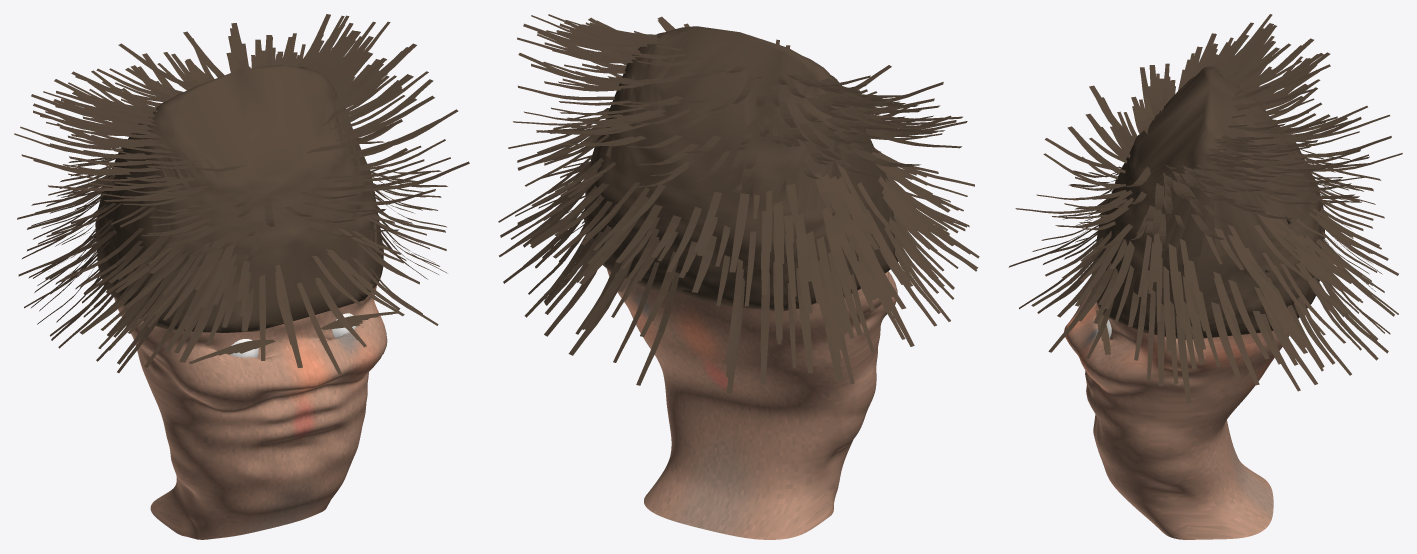
The model's file is TLS_gwendolyn_head_v3.glb.
3 views of the same model, side by side, from view 1: azimuth 30°, elevation 25°; view 2: azimuth 150°, elevation 25°; view 3: azimuth 270°, elevation 25° (orthographic). The views are drawn at different scales.
Parts seen in each view (by area): view 1: TLS_gwendolyn_HairCap, TLS_gwendolyn_Head, card.012, card.078, card.107, card.066, card.172; view 2: TLS_gwendolyn_Head, TLS_gwendolyn_HairCap, card.147, card.008, card.219, card.063, card.269, card.168, card.170, card.091, card.229, card.272 (+1 smaller); view 3: TLS_gwendolyn_Head, TLS_gwendolyn_HairCap, card.059, card.117, card.018, card.175, card.049, card.136, card.225, card.293, card.068.
Boxes of the visible parts, x1=… form: TLS_gwendolyn_HairCap: x1=95, y1=64, x2=383, y2=332; TLS_gwendolyn_Head: x1=114, y1=285, x2=387, y2=539; card.012: x1=297, y1=282, x2=341, y2=374; card.078: x1=275, y1=270, x2=302, y2=367; card.107: x1=164, y1=268, x2=214, y2=352; card.066: x1=259, y1=274, x2=265, y2=360; card.172: x1=200, y1=243, x2=235, y2=307; TLS_gwendolyn_Head: x1=607, y1=269, x2=897, y2=539; TLS_gwendolyn_HairCap: x1=584, y1=26, x2=897, y2=310; card.147: x1=816, y1=235, x2=843, y2=333; card.008: x1=636, y1=272, x2=679, y2=385; card.219: x1=822, y1=207, x2=855, y2=289; card.063: x1=760, y1=272, x2=769, y2=383; card.269: x1=729, y1=193, x2=749, y2=272; card.168: x1=806, y1=231, x2=827, y2=316; card.170: x1=851, y1=216, x2=905, y2=309; card.091: x1=725, y1=259, x2=743, y2=363; card.229: x1=795, y1=213, x2=811, y2=281; card.272: x1=837, y1=176, x2=879, y2=249; TLS_gwendolyn_Head: x1=1064, y1=290, x2=1289, y2=539; TLS_gwendolyn_HairCap: x1=1091, y1=66, x2=1324, y2=339; card.059: x1=1211, y1=302, x2=1241, y2=379; card.117: x1=1228, y1=279, x2=1269, y2=359; card.018: x1=1176, y1=316, x2=1191, y2=403; card.175: x1=1103, y1=240, x2=1134, y2=309; card.049: x1=1157, y1=303, x2=1164, y2=386; card.136: x1=1163, y1=266, x2=1170, y2=351; card.225: x1=1168, y1=244, x2=1182, y2=320; card.293: x1=1089, y1=85, x2=1135, y2=144; card.068: x1=1147, y1=290, x2=1155, y2=381.
Size of the model in its own units: 0.2602 by 0.2744 by 0.2334.
Materials: 7 (1 with a texture image).
